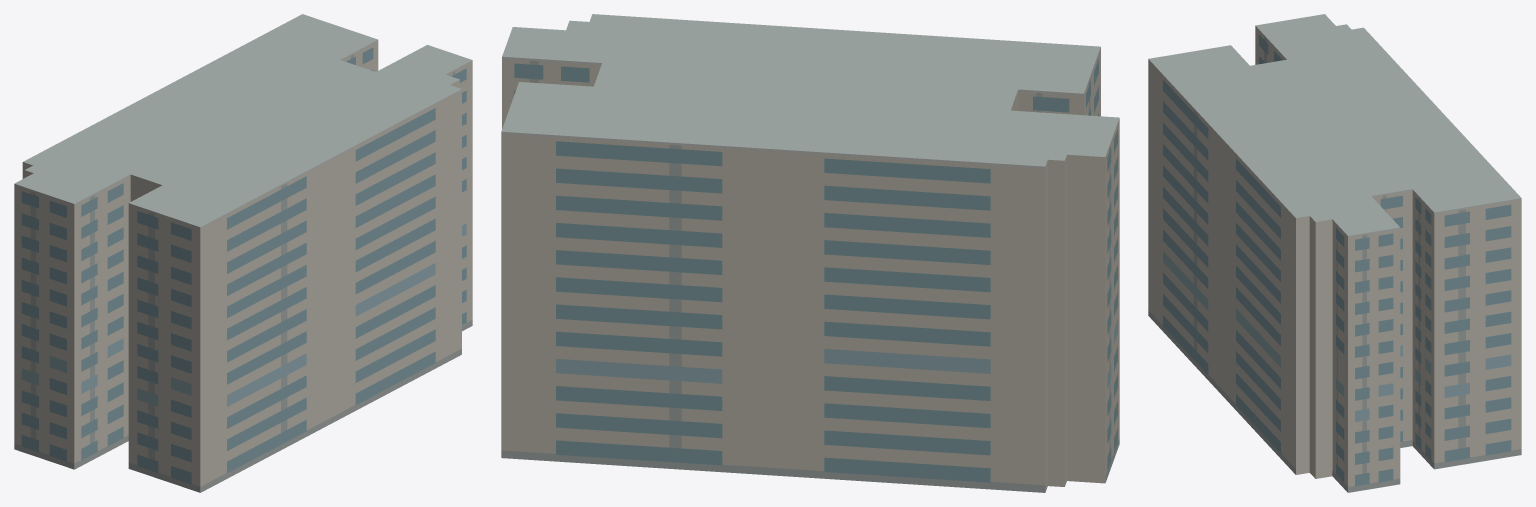
Rendered from residential-1382bac9-64fd-44f9-98bd-a40fe31e4b33.glb.
The picture shows the model from 3 angles, left to right: view 1: azimuth 30°, elevation 25°; view 2: azimuth 150°, elevation 25°; view 3: azimuth 270°, elevation 25°; orthographic projection. The views are drawn at different scales.
Parts seen in each view (by area): view 1: residential-1382bac9-64fd-44f9-98bd-a40fe31e4b33.tmp; view 2: residential-1382bac9-64fd-44f9-98bd-a40fe31e4b33.tmp; view 3: residential-1382bac9-64fd-44f9-98bd-a40fe31e4b33.tmp.
Part boxes in pixels (box(x1,y1,x2,y2)): residential-1382bac9-64fd-44f9-98bd-a40fe31e4b33.tmp: box(14, 14, 472, 492); residential-1382bac9-64fd-44f9-98bd-a40fe31e4b33.tmp: box(501, 14, 1119, 492); residential-1382bac9-64fd-44f9-98bd-a40fe31e4b33.tmp: box(1148, 14, 1521, 492).
Size of the model in its own units: 64.89 by 35 by 46.11.
